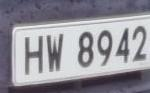2: (130, 19, 150, 70)
4: (114, 23, 131, 66)
8: (75, 28, 98, 74)
9: (95, 26, 115, 70)
H: (22, 32, 46, 81)
W: (44, 30, 68, 78)
